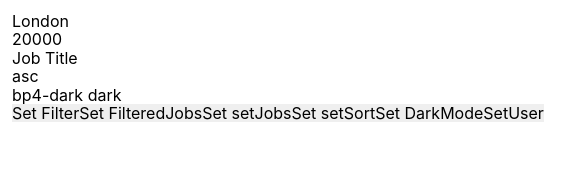
Test: GeneralProvider › Set the filteredJobs
The image size is (561, 172).
Click the button "Set FilteredJobs": point(141, 113) [79,104,202,122]
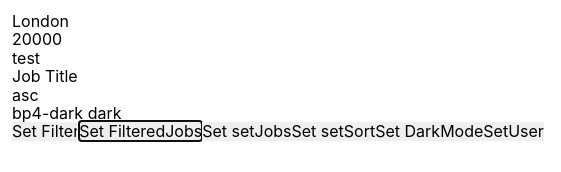
Check: the text with test id "filteredJobs" reads "test", box [12,48,40,68]
